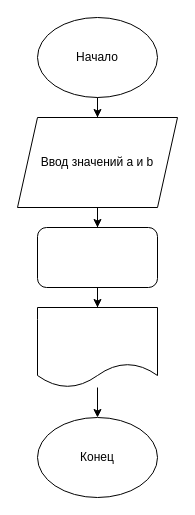
Some shapes in this 195 by 515 pixel diagram are drawn without their labels. Here are the shapes that lost their labels. From the top down, the box of each, then its label:
(36, 226, 158, 288): Умножение a на b
(36, 306, 158, 388): Вывод результата умножения
